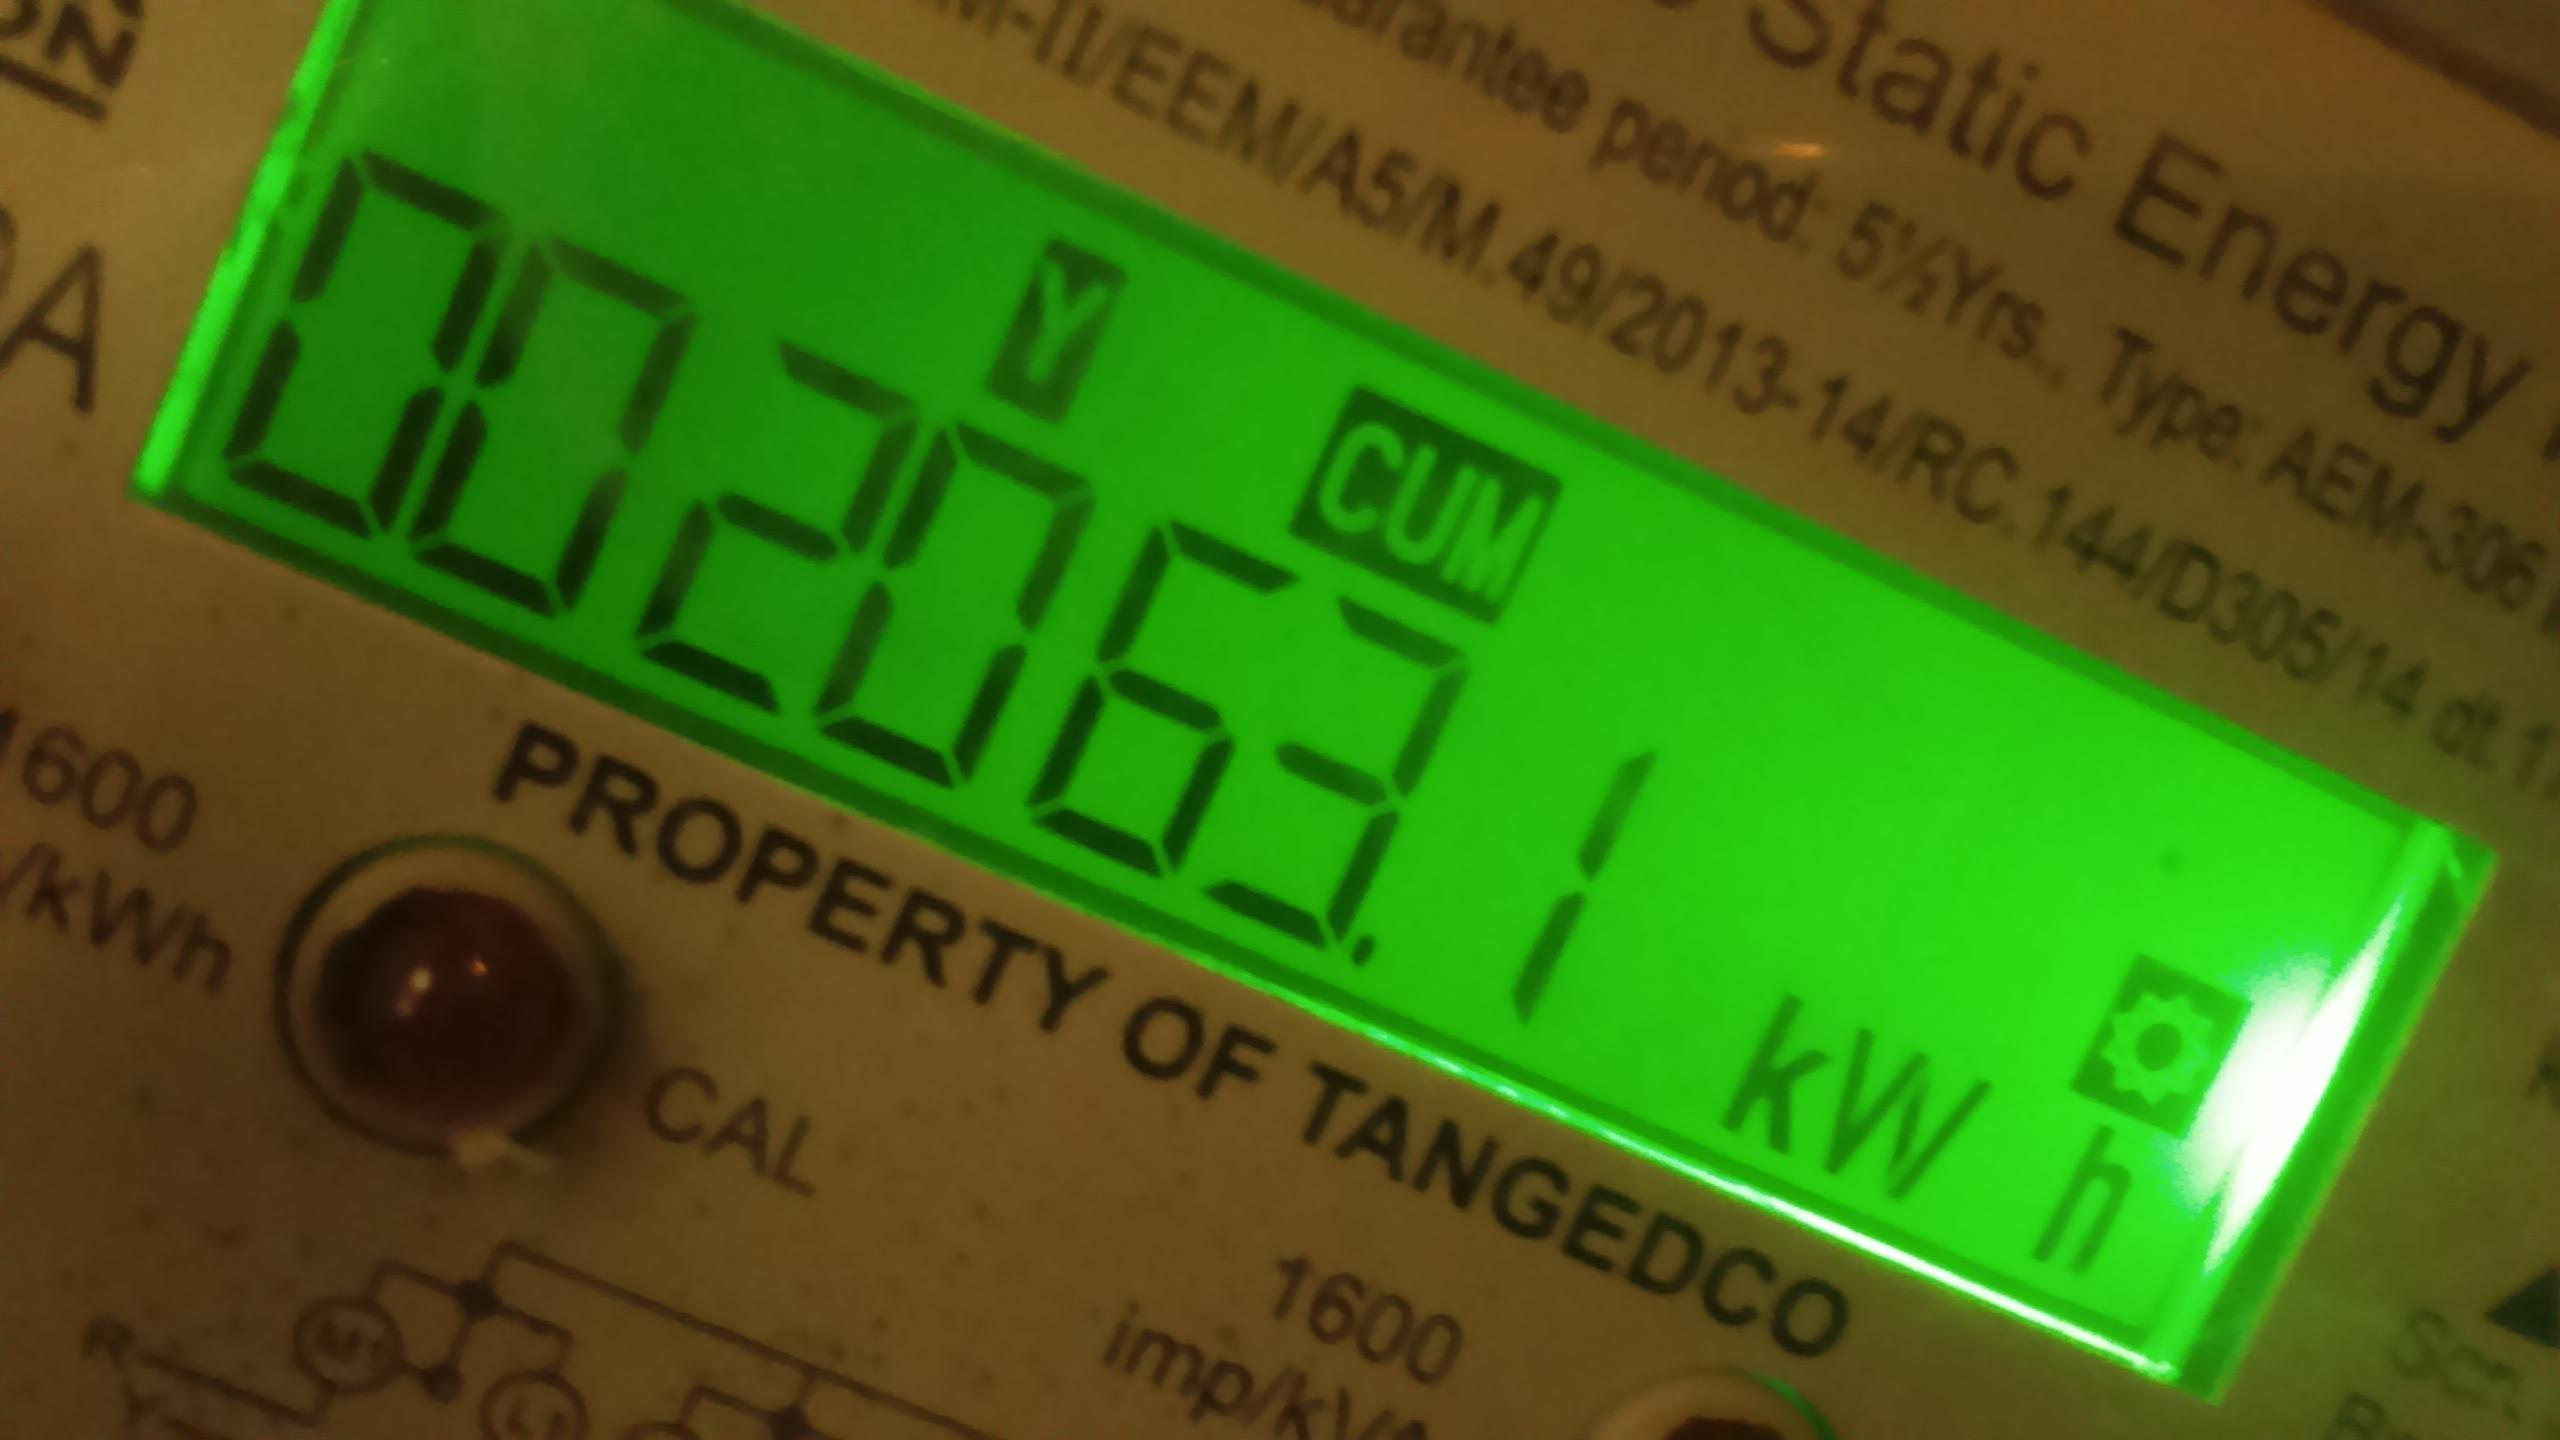.: (1722, 996, 2131, 1317)
0: (1294, 893, 1407, 1036)
1: (165, 113, 522, 546), (751, 443, 1132, 799), (391, 233, 732, 583)
2: (1474, 688, 1712, 1056)
3: (615, 338, 972, 716)
4: (1168, 603, 1512, 952)
7: (1004, 503, 1332, 889)
